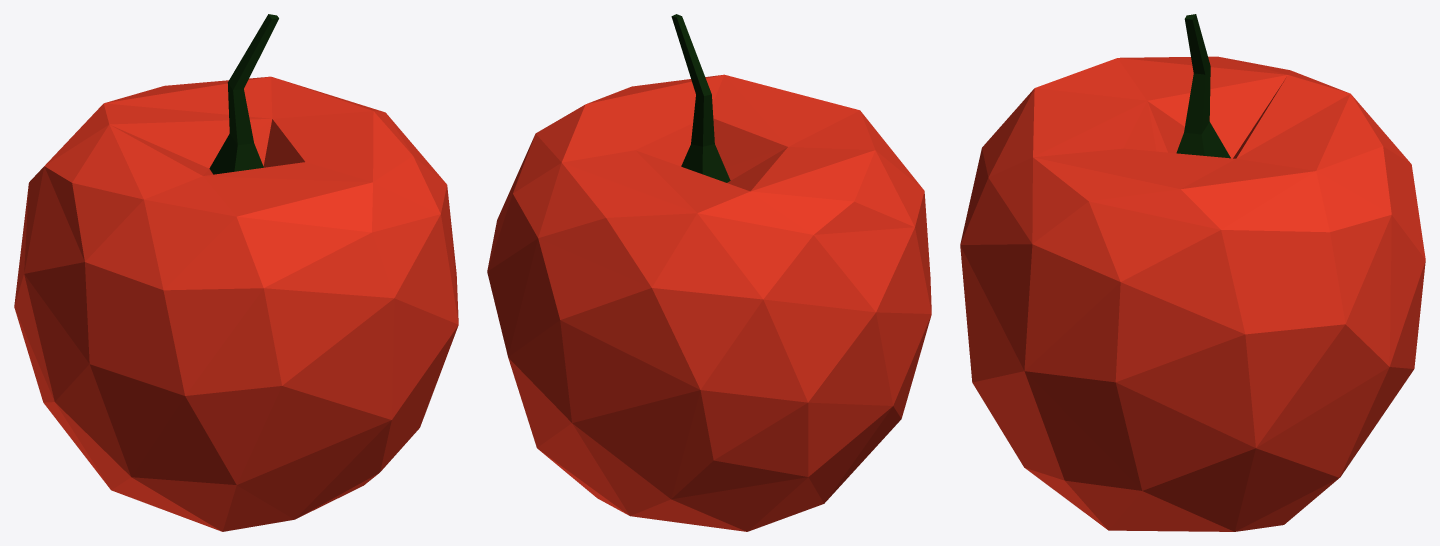
Rendered from Apple3.fbx.
The picture shows the model from 3 angles, left to right: view 1: azimuth 30°, elevation 25°; view 2: azimuth 150°, elevation 25°; view 3: azimuth 270°, elevation 25°; orthographic projection. The views are drawn at different scales.
Visible parts, largest first — view 1: Cube; view 2: Cube; view 3: Cube.
Boxes of the visible parts, x1,y1,x2,y2 form: Cube: [14, 14, 458, 531]; Cube: [487, 14, 931, 531]; Cube: [960, 14, 1425, 531].
Bounding box in the file's own units: 191 × 221 × 190.
